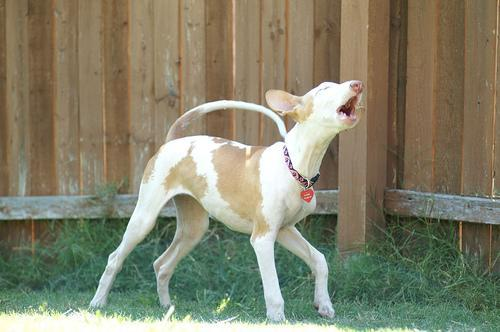Ibizan_hound: (87, 80, 362, 323)
